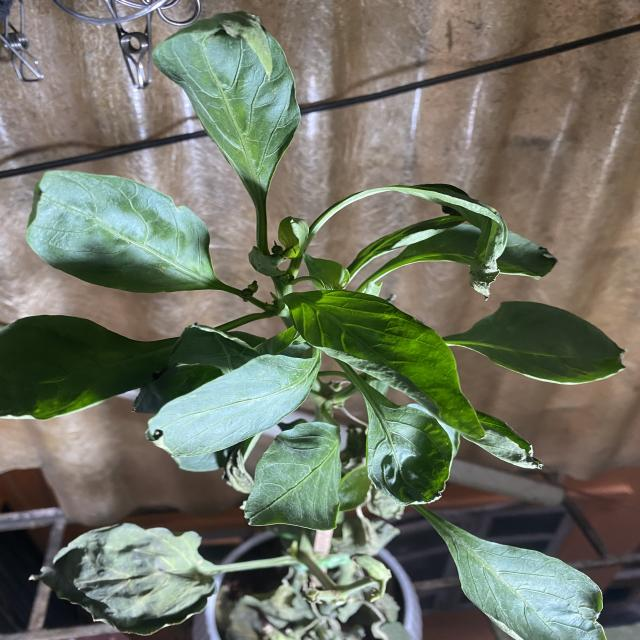Leaf: (286, 289, 487, 440), (151, 12, 301, 191), (23, 168, 212, 296), (29, 523, 222, 636), (442, 524, 604, 640), (146, 352, 315, 455), (469, 299, 629, 386)
